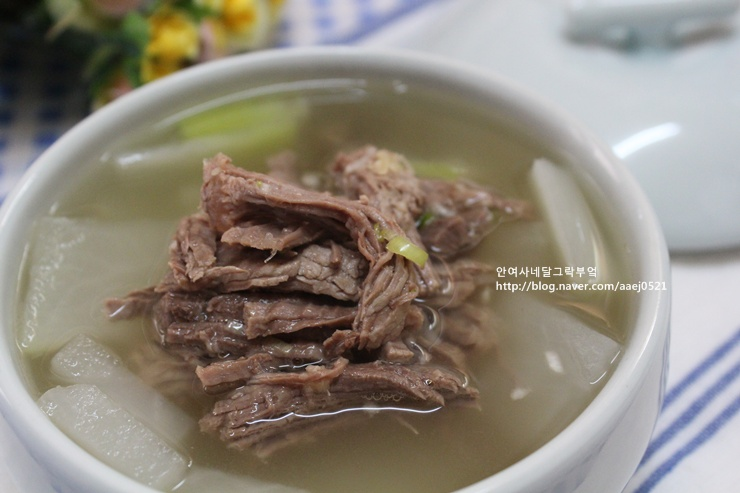mugug: (6, 74, 642, 493)
